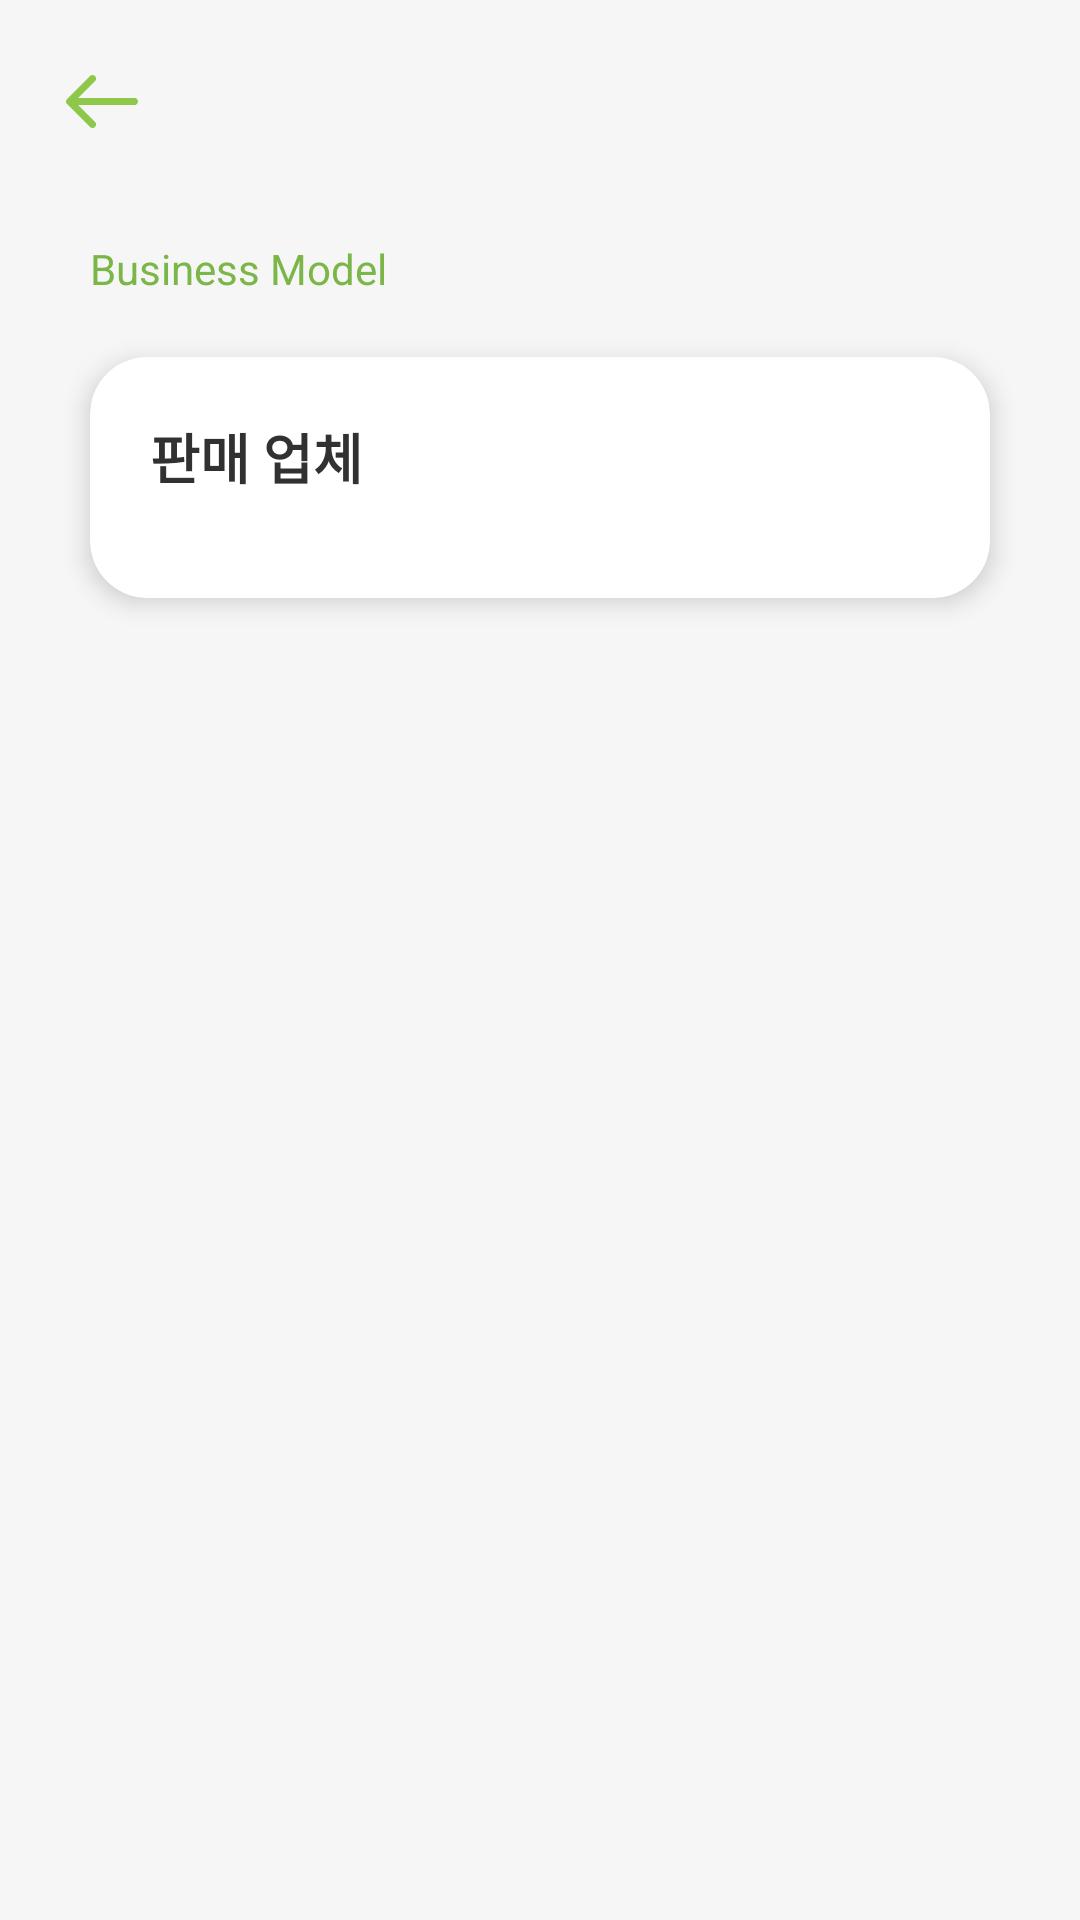

Point at icon controls on the screen. Image size 1080px x 1920px, points as (x,y).
뒤로: (102,101)
